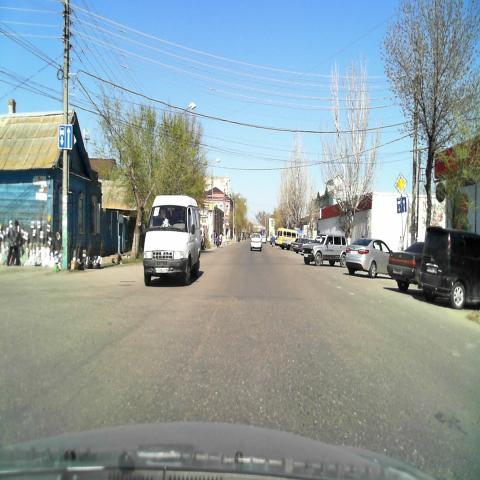5_11: (57, 124, 73, 153), (396, 197, 407, 215)
